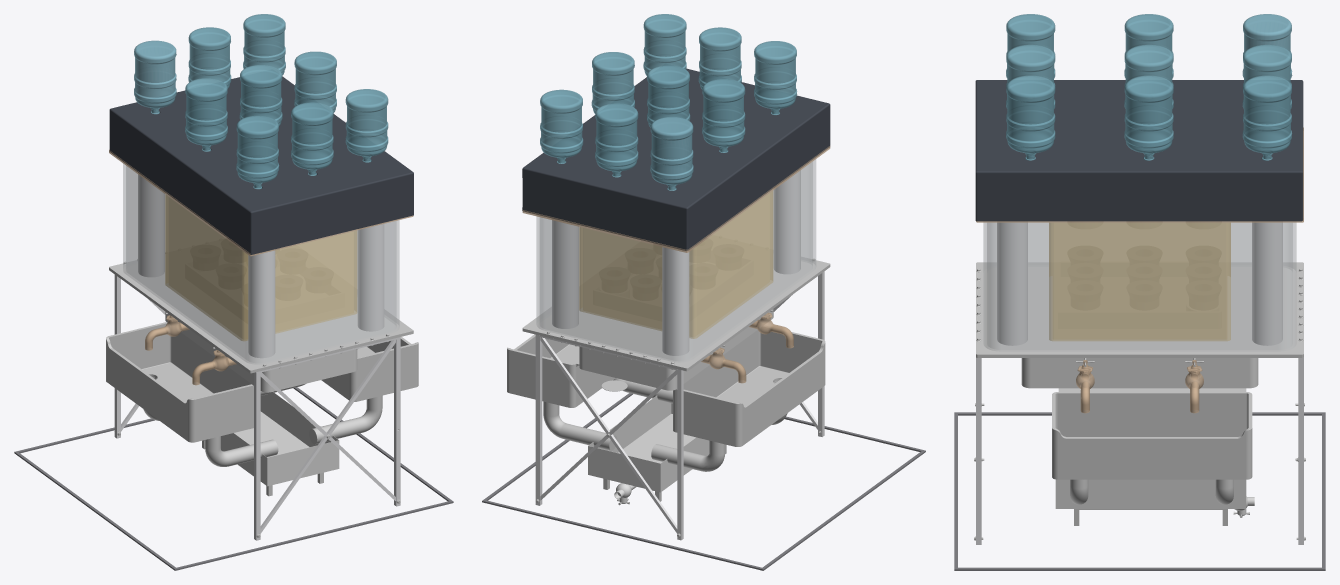
The model's file is designathon-2026-hygiene-station.glb.
3 renders of one model, left to right at view 1: azimuth 30°, elevation 25°; view 2: azimuth 150°, elevation 25°; view 3: azimuth 270°, elevation 25°, orthographic. The views are drawn at different scales.
Visible parts, largest first — view 1: Body1:72, Body1:6, Body1:1, Carboy, Body2:5, Body1:7, Body1:2, Body1, Body1:3, Water; view 2: Body1:72, Body1:6, Body1:1, Carboy, Body2:5, Body1:7, Body1:2, Body1, Body1:3, Water; view 3: Body1:72, Body1:1, Body1:6, Body2:5, Carboy, Body1:2, Body1:7, Body1, Body1:3, Water.
Part boxes in pixels (left/top/right/bottom): Body1:72: left=123, top=163, right=399, bottom=364; Body1:6: left=106, top=252, right=418, bottom=537; Body1:1: left=109, top=76, right=413, bottom=254; Carboy: left=134, top=14, right=388, bottom=189; Body2:5: left=165, top=194, right=357, bottom=340; Body1:7: left=114, top=174, right=400, bottom=540; Body1:2: left=165, top=311, right=357, bottom=486; Body1: left=14, top=387, right=453, bottom=570; Body1:3: left=109, top=149, right=413, bottom=385; Water: left=135, top=42, right=175, bottom=113; Body1:72: left=536, top=159, right=815, bottom=362; Body1:6: left=507, top=253, right=830, bottom=537; Body1:1: left=522, top=68, right=830, bottom=250; Carboy: left=540, top=14, right=797, bottom=190; Body2:5: left=579, top=191, right=773, bottom=338; Body1:7: left=535, top=170, right=824, bottom=540; Body1:2: left=579, top=309, right=773, bottom=505; Body1: left=482, top=393, right=925, bottom=570; Body1:3: left=522, top=146, right=830, bottom=383; Water: left=651, top=118, right=692, bottom=189; Body1:72: left=983, top=222, right=1296, bottom=351; Body1:1: left=975, top=80, right=1303, bottom=221; Body1:6: left=974, top=262, right=1305, bottom=540; Body2:5: left=1049, top=222, right=1230, bottom=340; Carboy: left=1006, top=14, right=1292, bottom=160; Body1:2: left=1021, top=358, right=1258, bottom=517; Body1:7: left=976, top=222, right=1303, bottom=544; Body1: left=954, top=412, right=1325, bottom=570; Body1:3: left=976, top=127, right=1303, bottom=413; Water: left=1244, top=15, right=1290, bottom=50.
Bounding box in the file's own units: 2.11 × 2.78 × 2.04.
